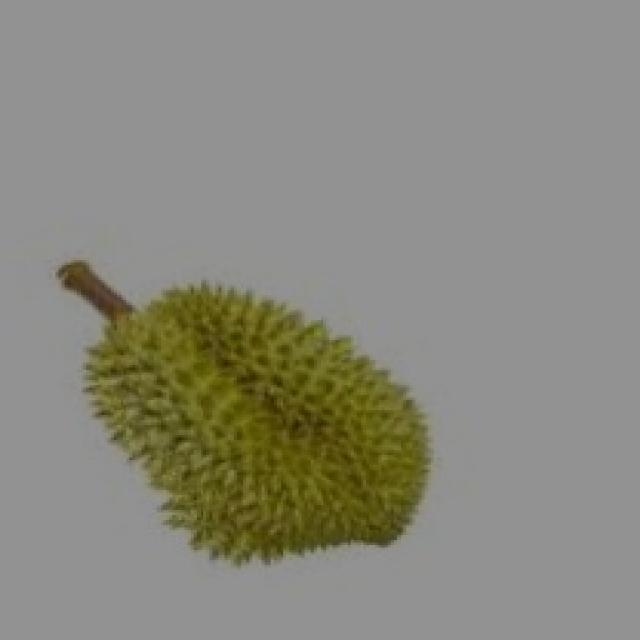fruit: (46, 252, 446, 598)
